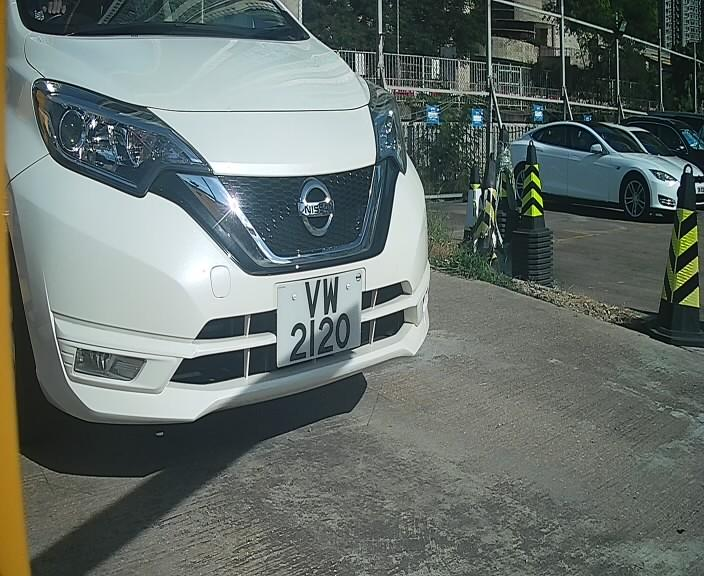License Plate: (274, 263, 365, 381)
